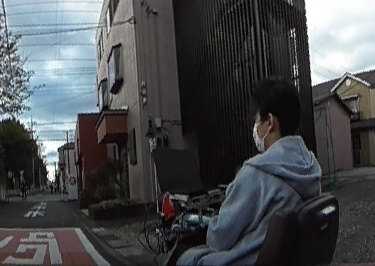person: (187, 78, 322, 266)
